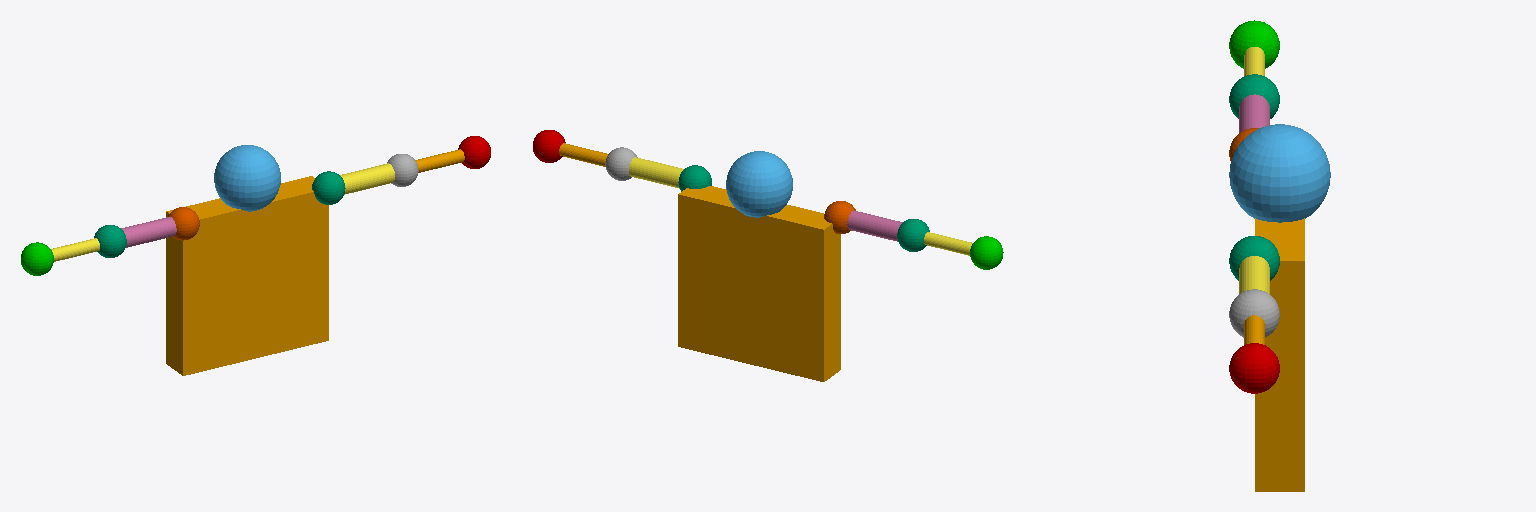
The robot description file, URDF, robot "upper_body":
<?xml version="1.0"?>
<robot name="upper_body">

     <material name="red">
    <color rgba="0.8 0.0 0.0 0.5 "/>
  </material>
  <material name="green">
    <color rgba="0.0 0.8 0.0 0.5 "/>
  </material>


	<!-- Base Frame of Car -->
	<link name="body_link">
		<visual>
			<geometry>
				<box size="0.5 0.1 0.5"/>
			</geometry>
		</visual>
	</link>



<!-- HEAD  -->
	<link name="head_link">
		<visual>
			<geometry>
				<sphere radius="0.10"/>
			</geometry>
		</visual>
	</link>

	<joint name="fix_head_joint" type="fixed">
		<parent link="body_link"/>
		<child link="head_link"/>
		<origin rpy="0.0 0.0 0.0" xyz="0.0 0 0.32"/>
	</joint>

<!-- LEFT ARM -->

	<link name="left_shoulder">
		<visual>
			<geometry>
				<sphere radius="0.05"/>
			</geometry>
		</visual>
	</link>

	<joint name="left_fix_shoulder_joint" type="fixed">
		<parent link="body_link"/>
		<child link="left_shoulder"/>
		<origin rpy="0.0 0.0 0.0" xyz="0.25 -0.05 0.25"/>
	</joint>

	<link name="left_upper_arm">
		<visual>
			<geometry>
				<cylinder length="0.25" radius="0.03"/>
			</geometry>
		</visual>
	</link>


	<joint name="LShoulderX" type="continuous" >
	    <parent link="left_shoulder" />
	    <child link="left_shoulder_psi_link" />
	    <axis xyz="1 0 0" />
	    <dynamics damping="0.005" />
	</joint>

	<link name="left_shoulder_psi_link" />

	<joint name="LShoulderY" type="continuous" >
	    <parent link="left_shoulder_psi_link"/>
	    <child link="left_shoulder_theta_link"/>
	    <axis xyz="0 1 0" />
	    <dynamics damping="0.005" />
	</joint>

	<link name="left_shoulder_theta_link" />

	<joint name="LShoulderZ" type="continuous" >
	    <parent link="left_shoulder_theta_link"/>
	    <child link="left_shoulder3"/>
	    <axis xyz="0 0 1" />
	    <dynamics damping="0.005" />
	</joint>

	<link name="left_shoulder3"/>
	<joint name="left_should_fixed3" type="fixed" >
	    <parent link="left_shoulder3"/>
	    <child link="left_upper_arm"/>
	    <origin rpy="0 1.57 0" xyz="0.125 0 0.0"/>
	    <dynamics damping="0.005" />
	</joint>


<!--  -->

	<link name="left_elbow">
		<visual>
			<geometry>
				<sphere radius="0.05"/>
			</geometry>
		</visual>
	</link>

	<joint name="left_fix_elbow_joint" type="fixed">
		<parent link="left_upper_arm"/>
		<child link="left_elbow"/>
		<origin rpy="0.0 -1.57 0.0" xyz="0 0.0 0.125"/>
	</joint>


	<link name="left_lower_arm">
		<visual>
			<geometry>
				<cylinder length="0.25" radius="0.02"/>
			</geometry>
		</visual>
	</link>

	<joint name="LElbowX" type="continuous" >
	    <parent link="left_elbow" />
	    <child link="left_elbow_psi_link" />
	    <axis xyz="1 0 0" />
	    <dynamics damping="0.005" />
	</joint>

	<link name="left_elbow_psi_link" />

	<joint name="LElbowY" type="continuous" >
	    <parent link="left_elbow_psi_link"/>
	    <child link="left_elbow_theta_link"/>
	    <axis xyz="0 1 0" />
	    <dynamics damping="0.005" />
	</joint>

	<link name="left_elbow_theta_link" />

	<joint name="LElbowZ" type="continuous" >
	    <parent link="left_elbow_theta_link"/>
	    <child link="left_elbow3"/>
	    <axis xyz="0 0 1" />
	    <dynamics damping="0.005" />
	</joint>


	<link name="left_elbow3"/>
	<joint name="left_elbow_fixed3" type="fixed" >
	    <parent link="left_elbow3"/>
	    <child link="left_lower_arm"/>
	    <origin rpy="0 1.57 0.0" xyz="0.125 0 0"/>
	    <dynamics damping="0.005" />
	</joint>


	<link name="left_hand">
		<visual>
			<geometry>
				<sphere radius="0.05"/>
			</geometry>
		<material name="red"/>
		</visual>
	</link>
	<joint name="left_hand_fixed" type="fixed" >
	    <parent link="left_lower_arm"/>
	    <child link="left_hand"/>
	    <origin rpy="0 -1.57 0.0" xyz="0 0 0.125"/>
	    <dynamics damping="0.005" />
	</joint>




<!-- RIGHT ARM -->

	<link name="right_shoulder">
		<visual>
			<geometry>
				<sphere radius="0.05"/>
			</geometry>
		</visual>
	</link>

	<joint name="right_fix_shoulder_joint" type="fixed">
		<parent link="body_link"/>
		<child link="right_shoulder"/>
		<origin rpy="-3.1415926 0.0 0.0" xyz="-0.25 -0.05 0.25"/>
	</joint>

	<link name="right_upper_arm">
		<visual>
			<geometry>
				<cylinder length="0.25" radius="0.03"/>
			</geometry>
		</visual>
	</link>


	<joint name="RShoulderX" type="continuous" >
	    <parent link="right_shoulder" />
	    <child link="right_shoulder_psi_link" />
	    <axis xyz="1 0 0" />
	    <dynamics damping="0.005" />
	</joint>

	<link name="right_shoulder_psi_link" />

	<joint name="RShoulderY" type="continuous" >
	    <parent link="right_shoulder_psi_link"/>
	    <child link="right_shoulder_theta_link"/>
	    <axis xyz="0 1 0" />
	    <dynamics damping="0.005" />
	</joint>

	<link name="right_shoulder_theta_link" />

	<joint name="RShoulderZ" type="continuous" >
	    <parent link="right_shoulder_theta_link"/>
	    <child link="right_shoulder3"/>
	    <axis xyz="0 0 1" />
	    <dynamics damping="0.005" />
	</joint>

	<link name="right_shoulder3"/>
	<joint name="right_should_fixed3" type="fixed" >
	    <parent link="right_shoulder3"/>
	    <child link="right_upper_arm"/>
	    <origin rpy="0 1.57 0" xyz="-0.125 0 0.0"/>
	    <dynamics damping="0.005" />
	</joint>


<!--  -->

	<link name="right_elbow">
		<visual>
			<geometry>
				<sphere radius="0.05"/>
			</geometry>
		</visual>
	</link>

	<joint name="right_fix_elbow_joint" type="fixed">
		<parent link="right_upper_arm"/>
		<child link="right_elbow"/>
		<origin rpy="0.0 -1.57 0.0" xyz="0 0.0 -0.125"/>
	</joint>


	<link name="right_lower_arm">
		<visual>
			<geometry>
				<cylinder length="0.25" radius="0.02"/>
			</geometry>
		</visual>
	</link>

	<joint name="RElbowX" type="continuous" >
	    <parent link="right_elbow" />
	    <child link="right_elbow_psi_link" />
	    <axis xyz="1 0 0" />
	    <dynamics damping="0.005" />
	</joint>

	<link name="right_elbow_psi_link" />

	<joint name="RElbowY" type="continuous" >
	    <parent link="right_elbow_psi_link"/>
	    <child link="right_elbow_theta_link"/>
	    <axis xyz="0 1 0" />
	    <dynamics damping="0.005" />
	</joint>

	<link name="right_elbow_theta_link" />

	<joint name="RElbowZ" type="continuous" >
	    <parent link="right_elbow_theta_link"/>
	    <child link="right_elbow3"/>
	    <axis xyz="0 0 1" />
	    <dynamics damping="0.005" />
	</joint>


	<link name="right_elbow3"/>
	<joint name="right_elbow_fixed3" type="fixed" >
	    <parent link="right_elbow3"/>
	    <child link="right_lower_arm"/>
	    <origin rpy="0 1.57 0.0" xyz="-0.125 0 0"/>
	    <dynamics damping="0.005" />
	</joint>


	<link name="right_hand">
		<visual>
			<geometry>
				<sphere radius="0.05"/>
			</geometry>
		<material name="green"/>
		</visual>
	</link>
	<joint name="right_hand_fixed" type="fixed" >
	    <parent link="right_lower_arm"/>
	    <child link="right_hand"/>
	    <origin rpy="0 -1.57 0.0" xyz="0 0 -0.125"/>
	    <dynamics damping="0.005" />
	</joint>





</robot>

--- What the picture shows (computed from the rendered views, not written in the file) ---
Views: 3 orthographic renders of the robot side by side, from view 1: azimuth 30°, elevation 25°; view 2: azimuth 150°, elevation 25°; view 3: azimuth 270°, elevation 25°.
Robot: upper_body — 24 links, 23 joints (12 continuous, 11 fixed); root link body_link; default pose: every joint at zero.
Links seen in each view (by area): view 1: body_link, head_link, left_upper_arm, right_upper_arm, right_hand, left_shoulder, right_elbow, left_hand, left_elbow, right_shoulder, left_lower_arm, right_lower_arm; view 2: body_link, head_link, left_upper_arm, right_upper_arm, right_hand, left_hand, right_elbow, left_elbow, right_shoulder, left_shoulder, left_lower_arm, right_lower_arm; view 3: body_link, head_link, left_hand, right_hand, left_elbow, left_shoulder, right_elbow, left_upper_arm, right_upper_arm, left_lower_arm, right_lower_arm.
Boxes of the visible links, left/top/right/bottom form: body_link: left=166, top=176, right=328, bottom=375; head_link: left=214, top=145, right=280, bottom=211; left_upper_arm: left=340, top=163, right=394, bottom=194; right_upper_arm: left=121, top=217, right=176, bottom=247; right_hand: left=21, top=242, right=53, bottom=275; left_shoulder: left=312, top=171, right=345, bottom=204; right_elbow: left=94, top=225, right=126, bottom=257; left_hand: left=458, top=136, right=490, bottom=168; left_elbow: left=387, top=154, right=418, bottom=186; right_shoulder: left=168, top=207, right=199, bottom=240; left_lower_arm: left=415, top=149, right=464, bottom=172; right_lower_arm: left=51, top=238, right=99, bottom=261; body_link: left=678, top=186, right=840, bottom=381; head_link: left=726, top=151, right=792, bottom=217; left_upper_arm: left=629, top=157, right=683, bottom=188; right_upper_arm: left=847, top=211, right=902, bottom=241; right_hand: left=970, top=236, right=1003, bottom=269; left_hand: left=533, top=130, right=565, bottom=162; right_elbow: left=897, top=219, right=929, bottom=251; left_elbow: left=605, top=147, right=637, bottom=180; right_shoulder: left=824, top=201, right=855, bottom=233; left_shoulder: left=678, top=165, right=711, bottom=191; left_lower_arm: left=559, top=143, right=607, bottom=166; right_lower_arm: left=924, top=232, right=972, bottom=255; body_link: left=1255, top=218, right=1304, bottom=491; head_link: left=1229, top=124, right=1330, bottom=222; left_hand: left=1229, top=343, right=1279, bottom=393; right_hand: left=1229, top=20, right=1279, bottom=68; left_elbow: left=1229, top=289, right=1279, bottom=337; left_shoulder: left=1229, top=236, right=1279, bottom=280; right_elbow: left=1229, top=74, right=1279, bottom=118; left_upper_arm: left=1239, top=256, right=1269, bottom=293; right_upper_arm: left=1239, top=94, right=1269, bottom=132; left_lower_arm: left=1244, top=315, right=1264, bottom=344; right_lower_arm: left=1244, top=47, right=1264, bottom=75.
Bounding box of the posed robot: 1.6 × 0.2 × 0.67 m (x, y, z).
Geometry: primitives only (box / cylinder / sphere), no mesh files.